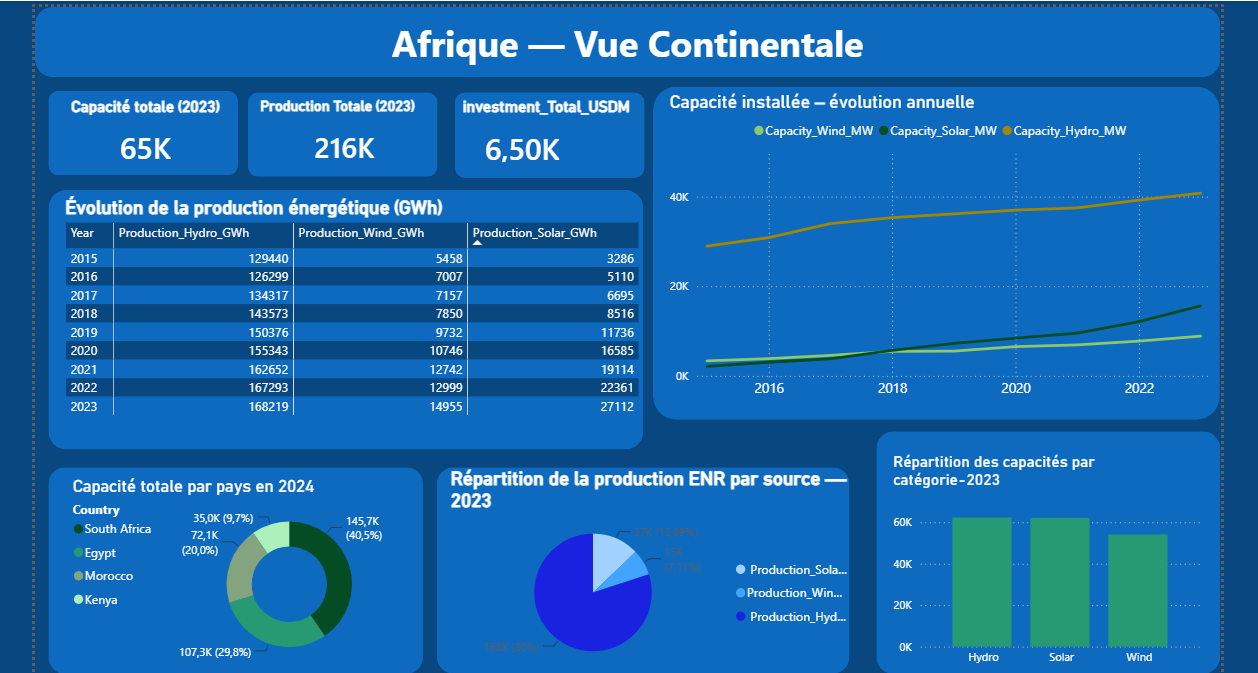

The dashboard page shown, as its layout file describes it:
{"tool":"powerbi","page":{"name":"afrique","canvas":[1280,720],"ordinal":0},"visuals":[{"type":"shape","box":[230.2,92.4,204.4,90.9],"z":0},{"type":"shape","box":[0,0,1279.5,75.7],"z":1000},{"type":"shape","box":[15.1,90.9,204.4,90.9],"z":2000},{"type":"cardVisual","title":"Capacité totale (2023)","fields":{"Data":["Sum(africa.Capacity_Total_MW)"]},"box":[27.3,96.9,183.2,86.3],"z":3000},{"type":"cardVisual","title":"Production Totale (2023)","fields":{"Data":["Sum(africa.Production_Total_GWh)"]},"box":[237.7,96.9,192.3,87.8],"z":4000},{"type":"shape","box":[667.5,85.3,611.9,359.7],"z":5000},{"type":"lineChart","title":"Capacité installée – évolution annuelle","fields":{"Category":["africa.Year"],"Y":["Sum(africa.Capacity_Wind_MW)","Sum(africa.Capacity_Solar_MW)","Sum(africa.Capacity_Hydro_MW)"]},"box":[680.5,90.9,598.9,341.2],"z":6000},{"type":"shape","box":[15.1,496.7,404.3,222.6],"z":7000},{"type":"donutChart","title":"Capacité totale par pays en 2024","fields":{"Category":["Capacity (MW).Country"],"Y":["Sum(Capacity (MW).capacite)"]},"box":[36.3,507.3,383.1,212],"z":8000},{"type":"shape","box":[908.6,458,370.8,261.4],"z":9000},{"type":"columnChart","title":"Répartition des capacités par catégorie-2023","fields":{"Category":["Dim_Energy.Energy_Type"],"Y":["Sum(Capacity (MW).Capacity)"]},"box":[921.5,480.2,343,239.2],"z":10000},{"type":"shape","box":[15.1,196.8,642,280.1],"z":11000},{"type":"tableEx","title":"Évolution de la production énergétique (GWh) ","fields":{"Values":["africa.Year","africa.Production_Hydro_GWh","africa.Production_Wind_GWh","africa.Production_Solar_GWh"]},"box":[27.8,204.4,630,267],"z":12000},{"type":"shape","box":[452.7,92.4,204.4,92.4],"z":13000},{"type":"cardVisual","title":"investment_Total_USDM","fields":{"Data":["Sum(africa.nvestment_Total_USDM)"]},"box":[457.3,96.9,199.9,87.8],"z":14000},{"type":"shape","box":[433.9,496.9,445,222.5],"z":15000},{"type":"pieChart","title":"Répartition de la production ENR par source — 2023","fields":{"Y":["Sum(africa.Production_Solar_GWh)","Sum(africa.Production_Wind_GWh)","Sum(africa.Production_Hydro_GWh)"]},"box":[443.2,496.9,448.7,222.5],"z":16000}]}

Visuals, with their boxes on the page's 1280x720 design canvas (x1, y1, x2, y2). These are canvas units, not pixel positions in the 1258x673 screenshot, which may show the page scaled, cropped or inside an application window:
shape: {"x1": 230, "y1": 92, "x2": 435, "y2": 183}
shape: {"x1": 0, "y1": 0, "x2": 1280, "y2": 76}
shape: {"x1": 15, "y1": 91, "x2": 220, "y2": 182}
"Capacité totale (2023)" cardVisual: {"x1": 27, "y1": 97, "x2": 210, "y2": 183}
"Production Totale (2023)" cardVisual: {"x1": 238, "y1": 97, "x2": 430, "y2": 185}
shape: {"x1": 668, "y1": 85, "x2": 1279, "y2": 445}
"Capacité installée – évolution annuelle" lineChart: {"x1": 680, "y1": 91, "x2": 1279, "y2": 432}
shape: {"x1": 15, "y1": 497, "x2": 419, "y2": 719}
"Capacité totale par pays en 2024" donutChart: {"x1": 36, "y1": 507, "x2": 419, "y2": 719}
shape: {"x1": 909, "y1": 458, "x2": 1279, "y2": 719}
"Répartition des capacités par catégorie-2023" columnChart: {"x1": 922, "y1": 480, "x2": 1264, "y2": 719}
shape: {"x1": 15, "y1": 197, "x2": 657, "y2": 477}
"Évolution de la production énergétique (GWh) " tableEx: {"x1": 28, "y1": 204, "x2": 658, "y2": 471}
shape: {"x1": 453, "y1": 92, "x2": 657, "y2": 185}
"investment_Total_USDM" cardVisual: {"x1": 457, "y1": 97, "x2": 657, "y2": 185}
shape: {"x1": 434, "y1": 497, "x2": 879, "y2": 719}
"Répartition de la production ENR par source — 2023" pieChart: {"x1": 443, "y1": 497, "x2": 892, "y2": 719}
